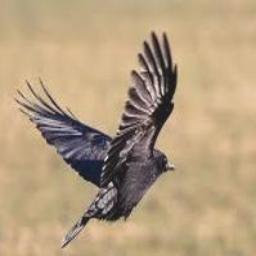Crow: (13, 30, 178, 247)
